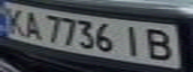3: (75, 18, 96, 51)
6: (93, 20, 118, 54)
7: (39, 12, 63, 44), (57, 16, 78, 47)
A: (18, 9, 45, 39)
B: (142, 26, 181, 63)
I: (118, 22, 148, 58)
K: (0, 5, 30, 35)
